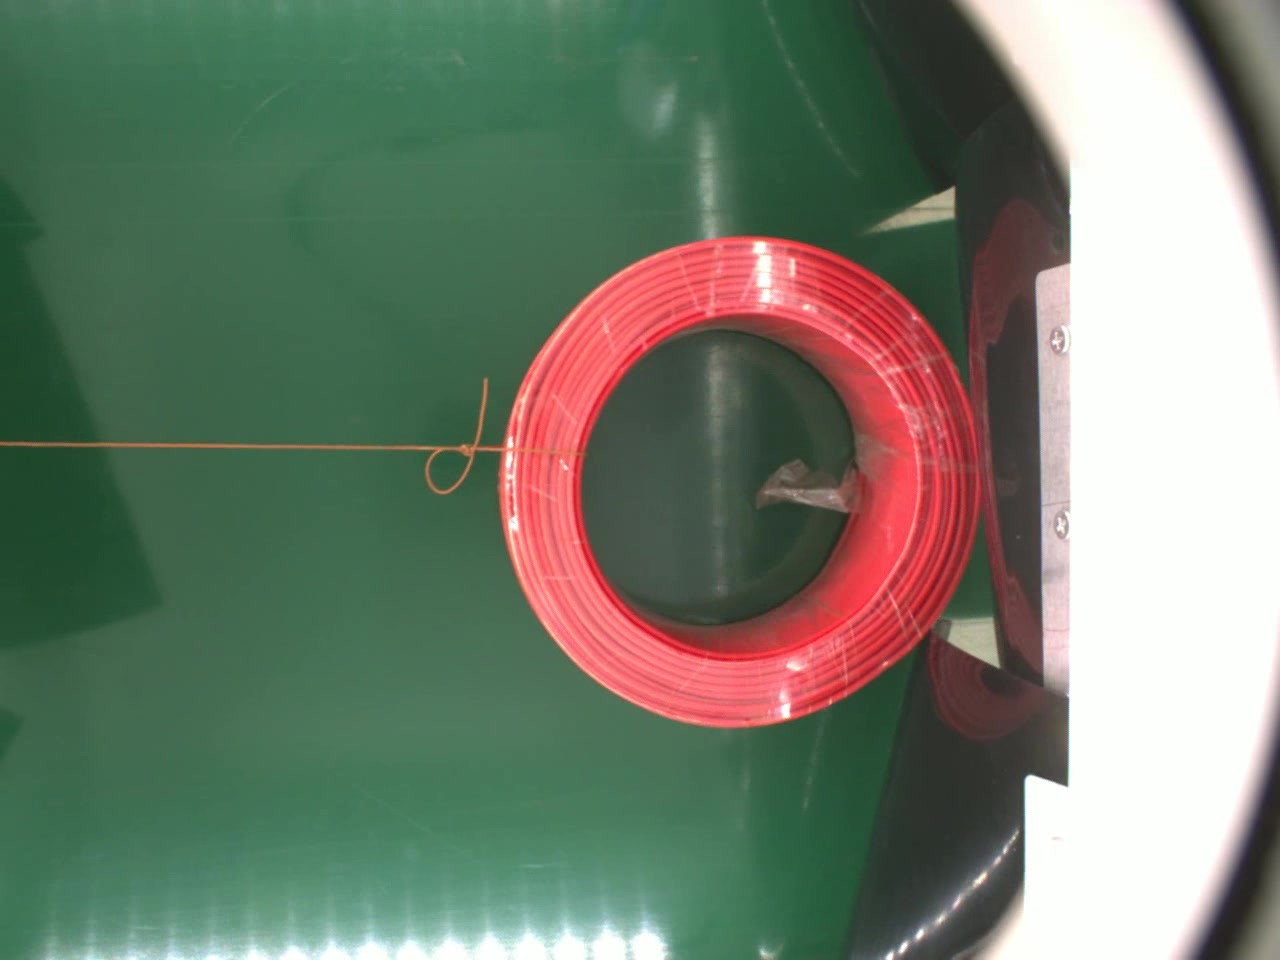red: (491, 232, 987, 740)
